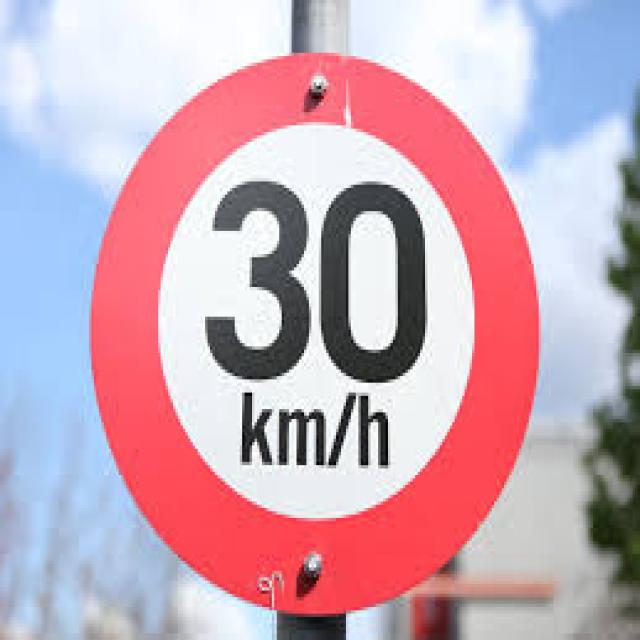Speed limit 30: (85, 47, 545, 618)
